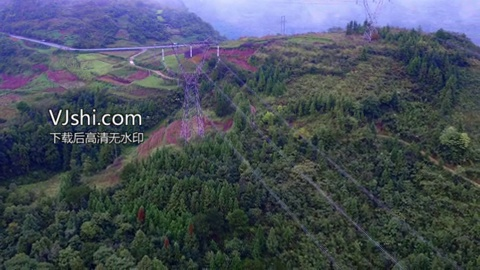tower_body: (167, 37, 220, 141)
tower_foot: (180, 115, 209, 138)
tower_head: (169, 40, 216, 85)
